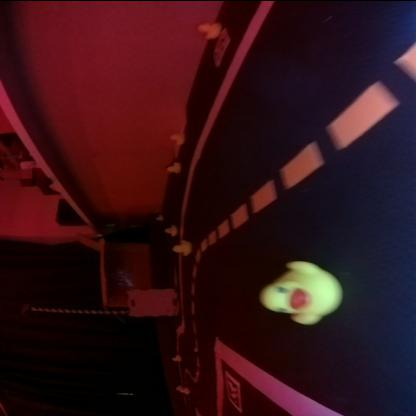Duckie: (266, 260, 343, 323), (198, 21, 220, 38), (172, 238, 190, 254), (166, 160, 180, 172), (164, 224, 176, 234)
QR code: (212, 27, 230, 64), (224, 370, 240, 411)
